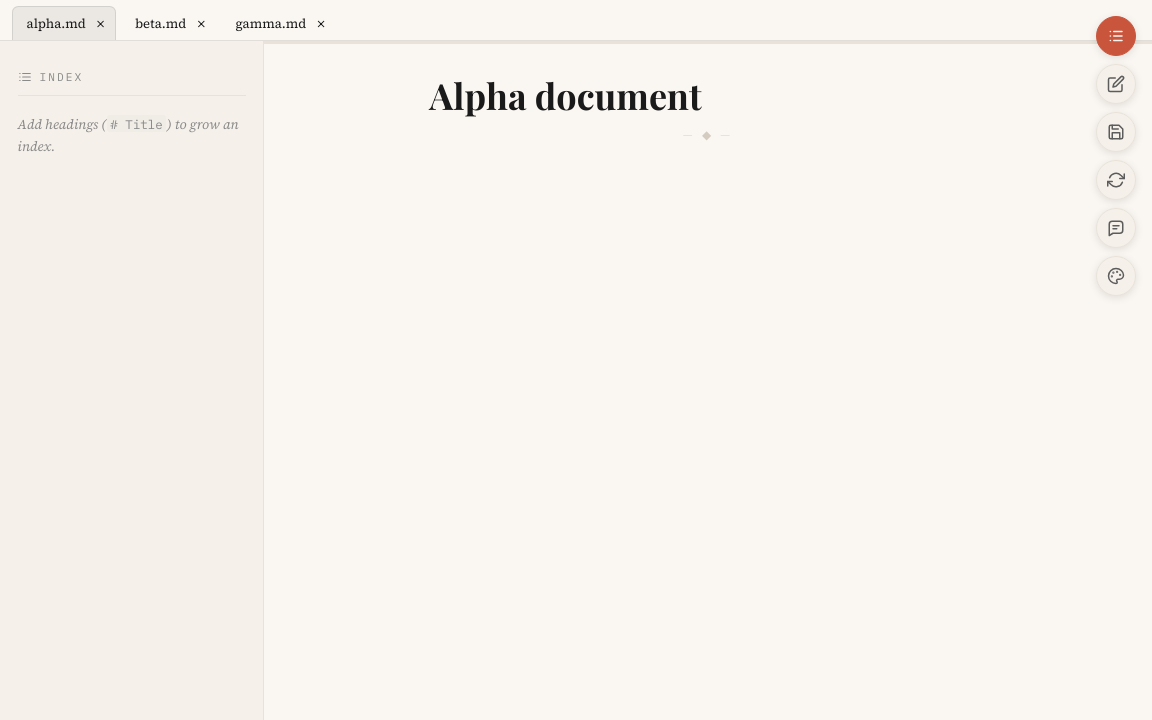
Test case: closing tabs in the desktop app › closing the active tab activates the neighbour that takes its place
The image size is (1152, 720).
expect the tab "alpha.md" is shown: met, box [13,7,91,40]
Click the button named "Close alpha.md": (101, 24) [91,14,110,33]
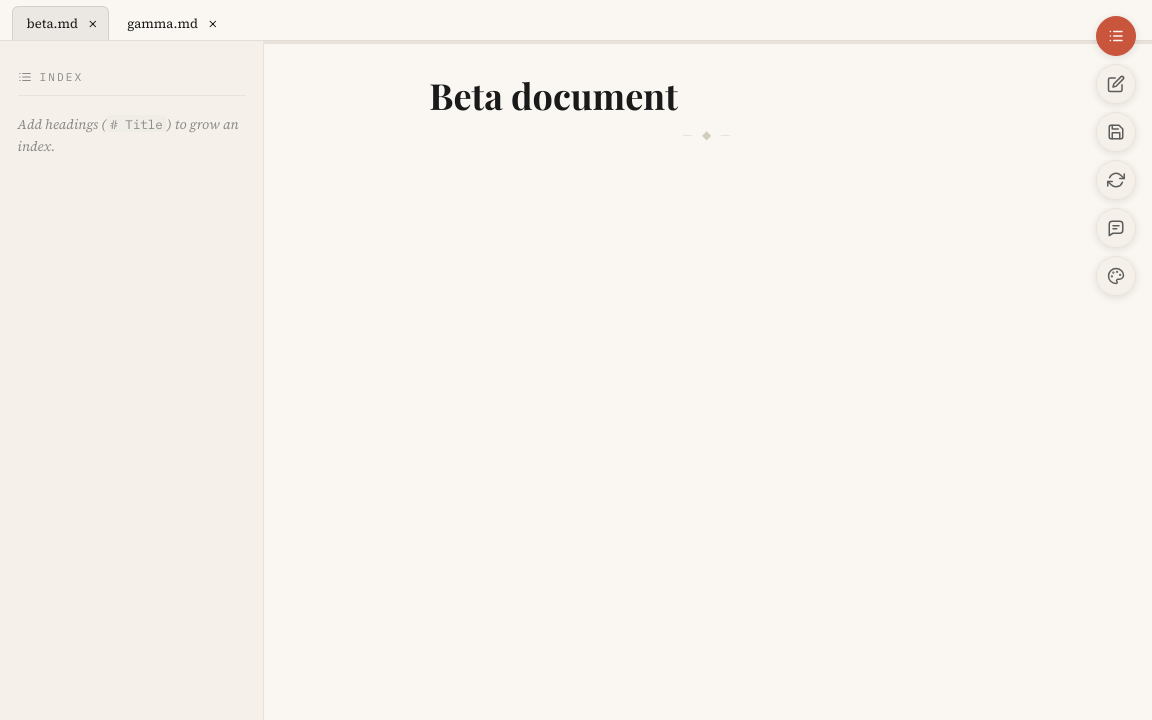
expect the tab "alpha.md" is gone: met
